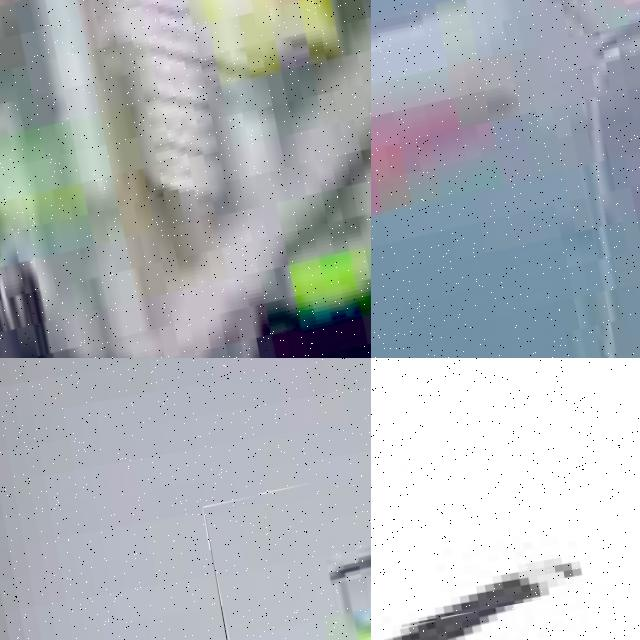drone: (0, 0, 371, 358), (371, 0, 640, 358), (201, 431, 371, 640), (371, 526, 640, 640)
